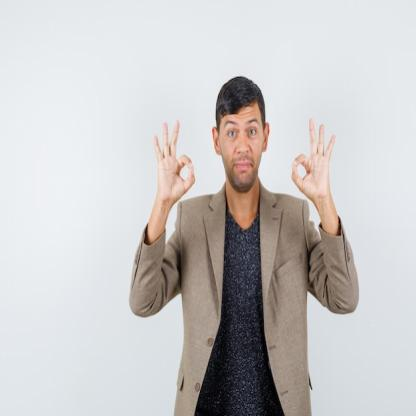ok: (290, 115, 338, 209), (150, 118, 198, 203)
